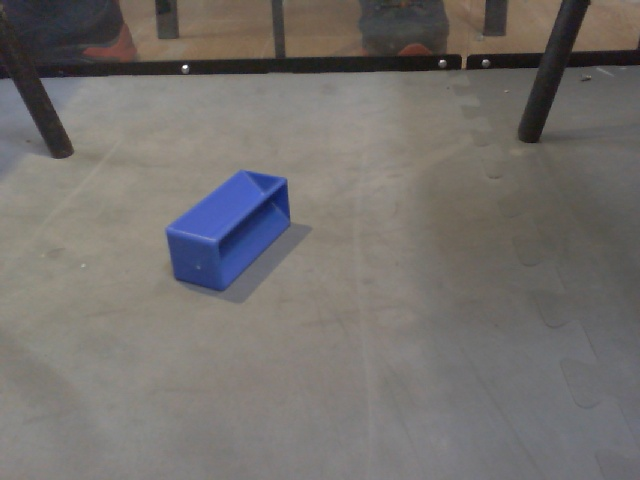BlueSample: (163, 167, 298, 298)
